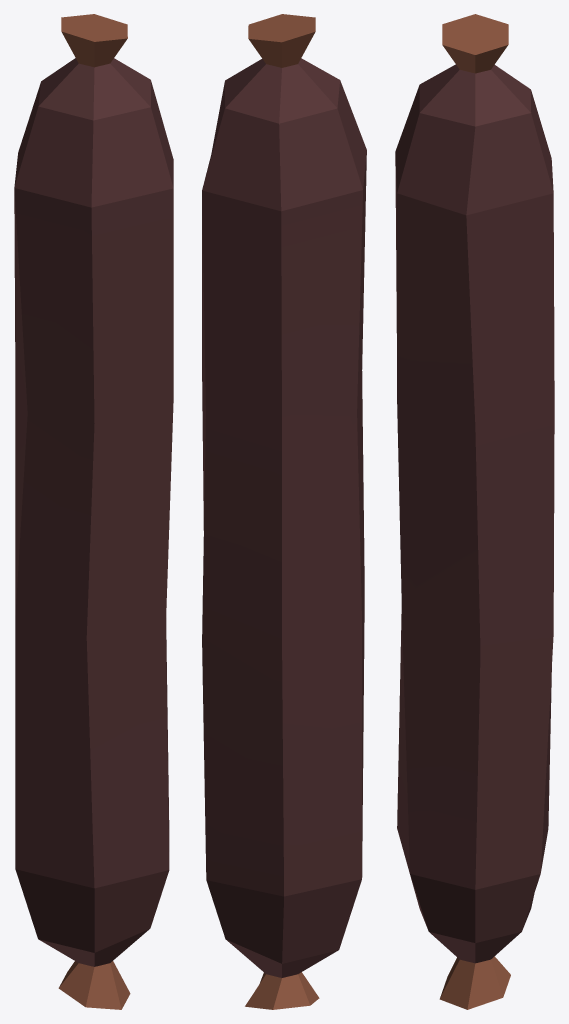
Rendered from SM_Prop_Meat_Sausage_02.fbx.
The picture shows the model from 3 angles, left to right: view 1: azimuth 30°, elevation 25°; view 2: azimuth 150°, elevation 25°; view 3: azimuth 270°, elevation 25°; orthographic projection. The views are drawn at different scales.
Visible parts, largest first — view 1: SM_Prop_Meat_Sausage_02; view 2: SM_Prop_Meat_Sausage_02; view 3: SM_Prop_Meat_Sausage_02.
Part boxes in pixels (x1=…): SM_Prop_Meat_Sausage_02: x1=14, y1=14, x2=173, y2=1009; SM_Prop_Meat_Sausage_02: x1=202, y1=14, x2=366, y2=1009; SM_Prop_Meat_Sausage_02: x1=395, y1=14, x2=554, y2=1009.
Bounding box in the file's own units: 12.53 × 73.34 × 10.97.
